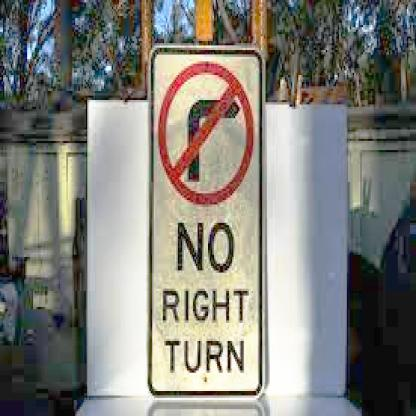No right turn: (158, 59, 256, 209)
